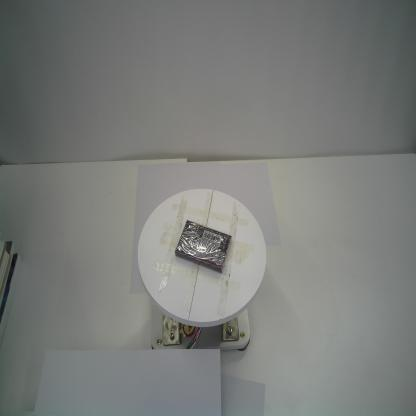Gum: (174, 218, 233, 276)
